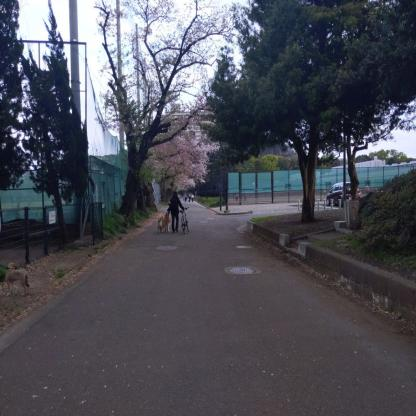Someiyoshino: (96, 0, 239, 206)
